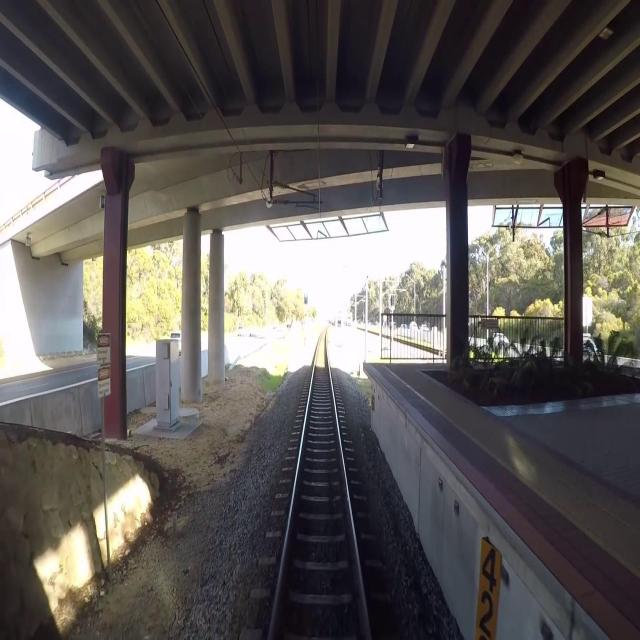rail-track: (272, 329, 367, 639)
